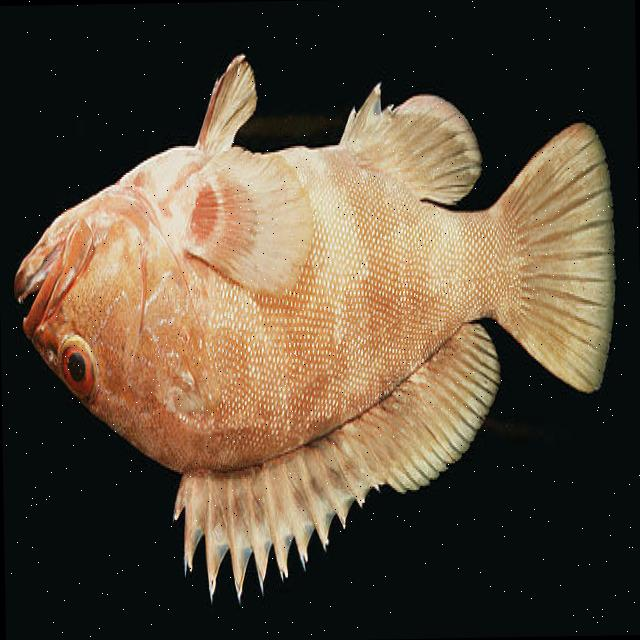ikan: (8, 44, 622, 612)
